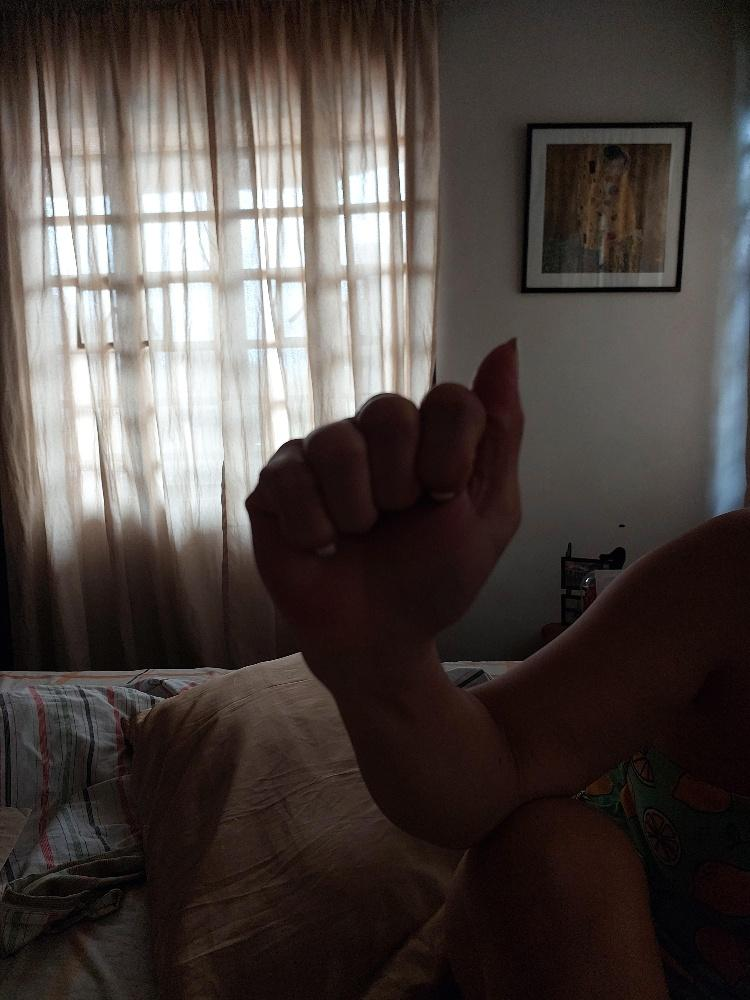a: (244, 336, 526, 653)
